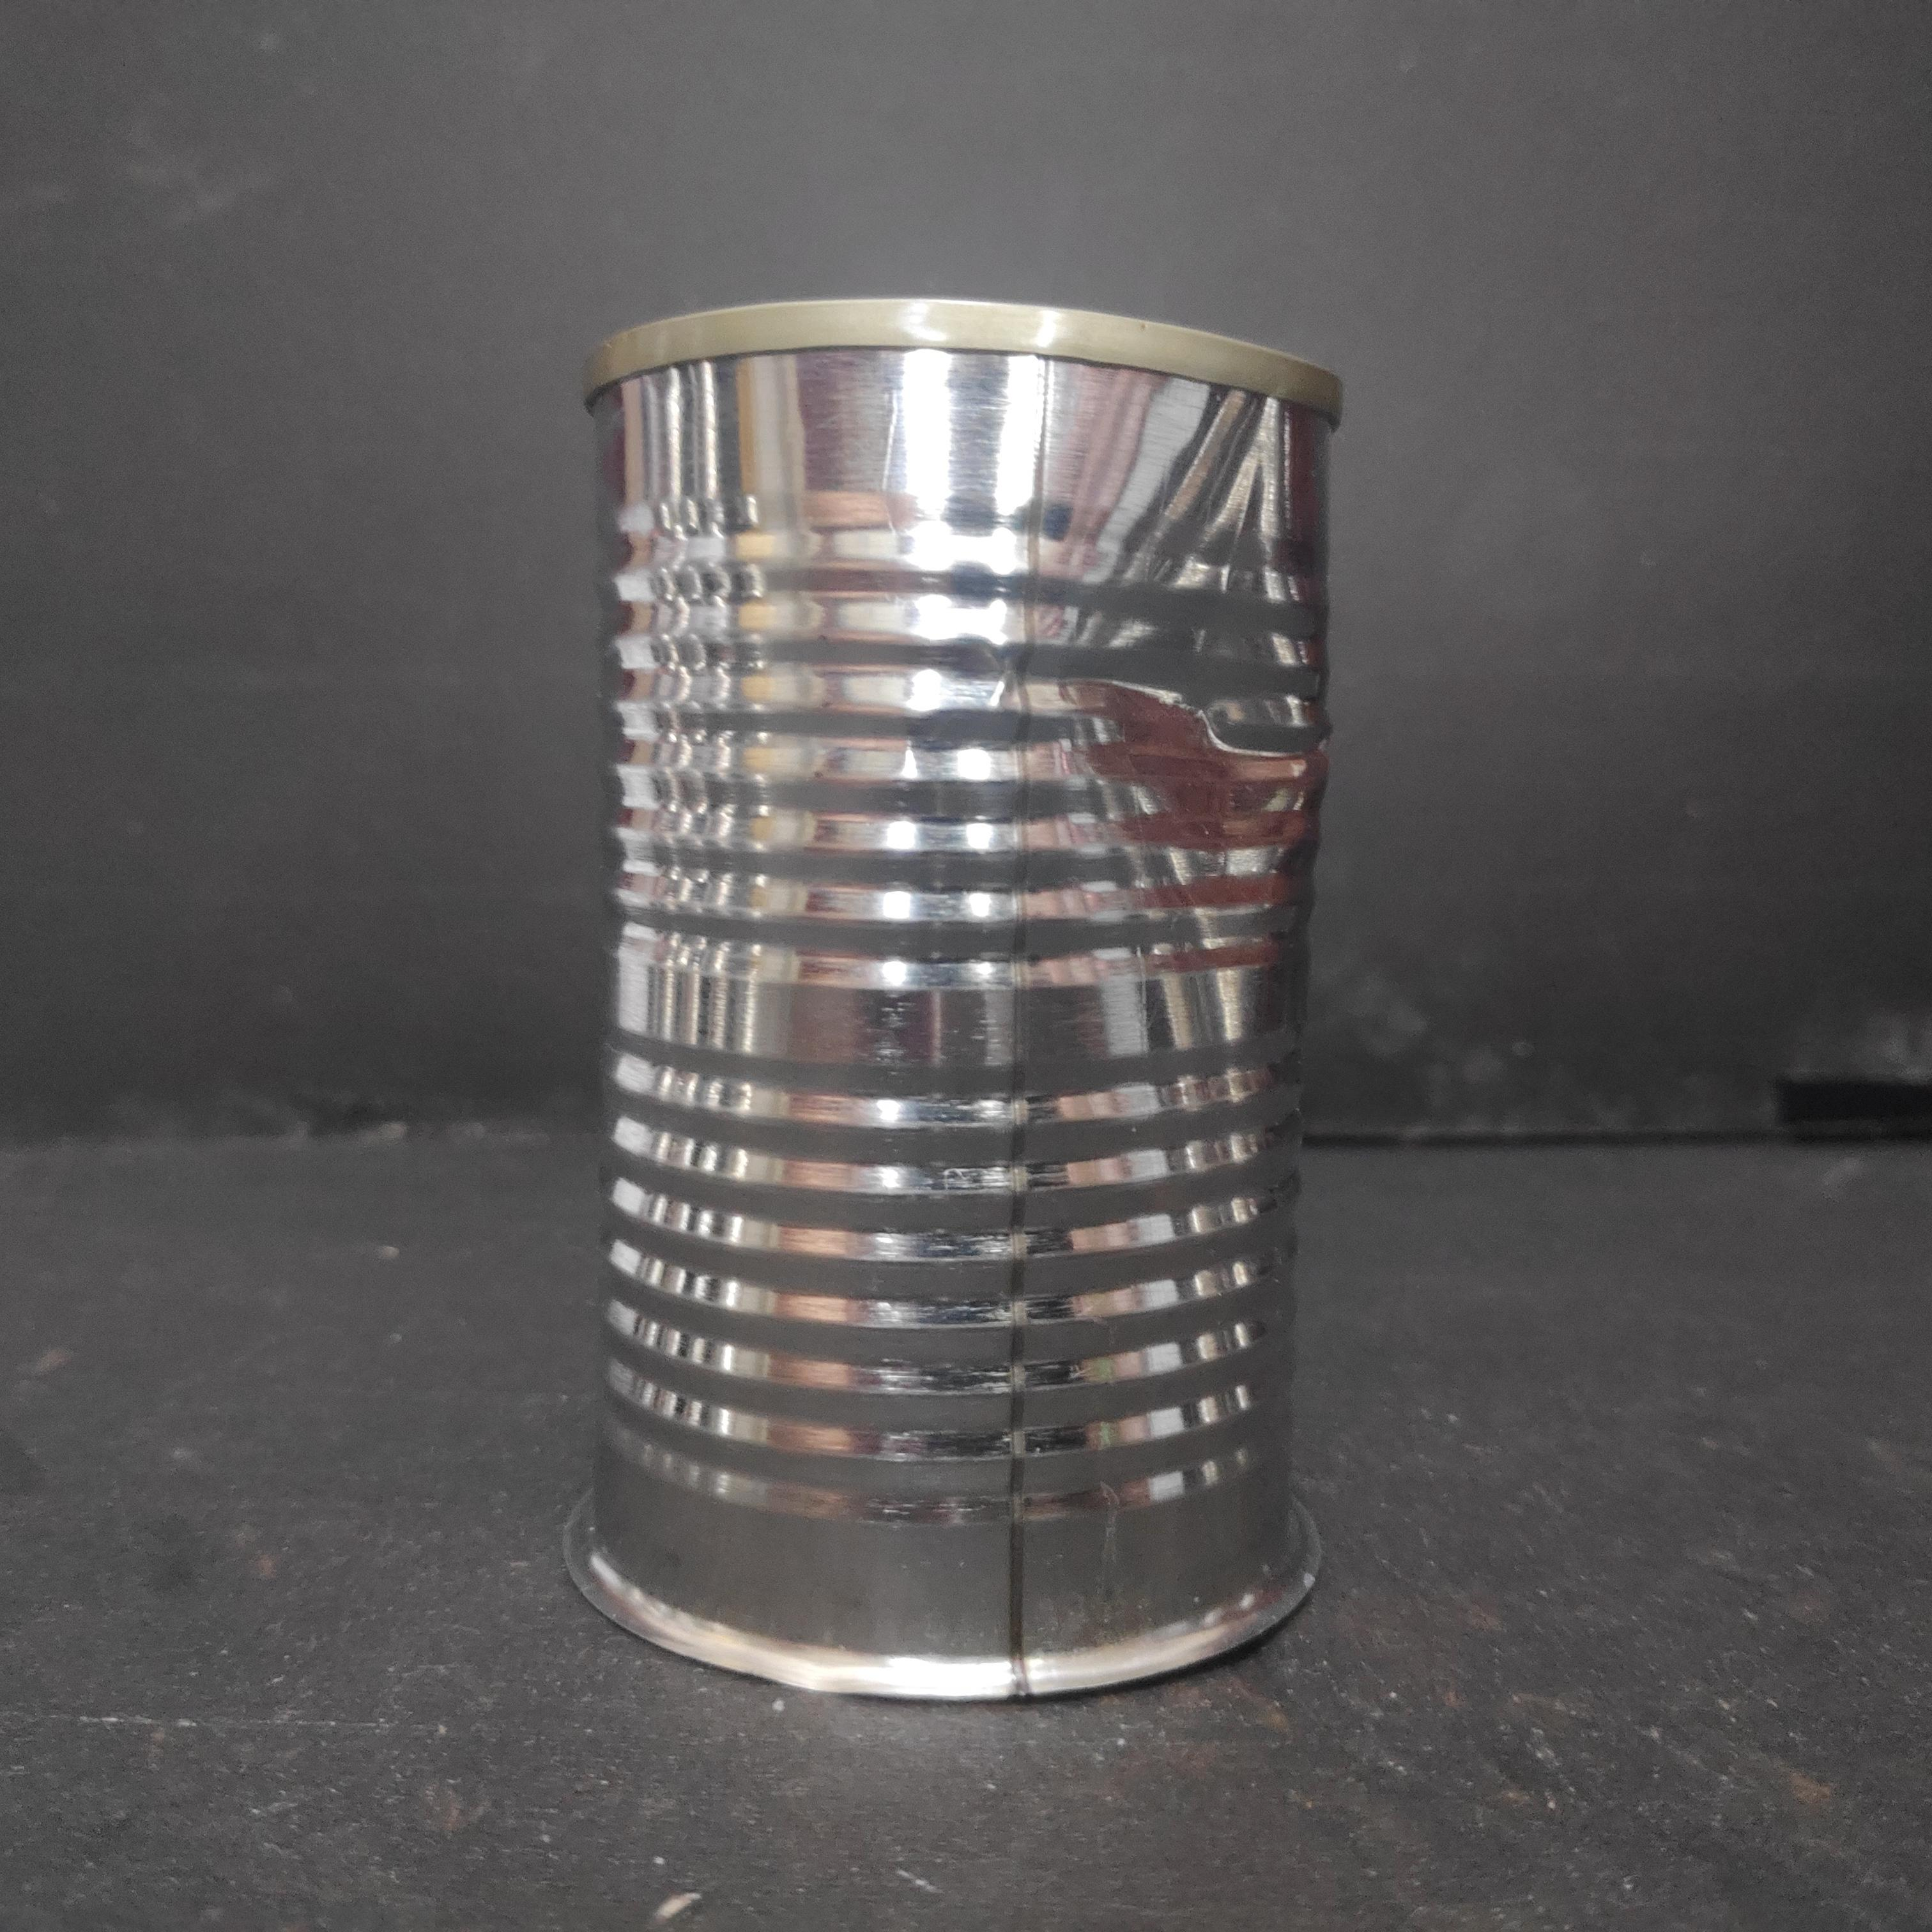Minor Defect: (579, 288, 1352, 1723)
